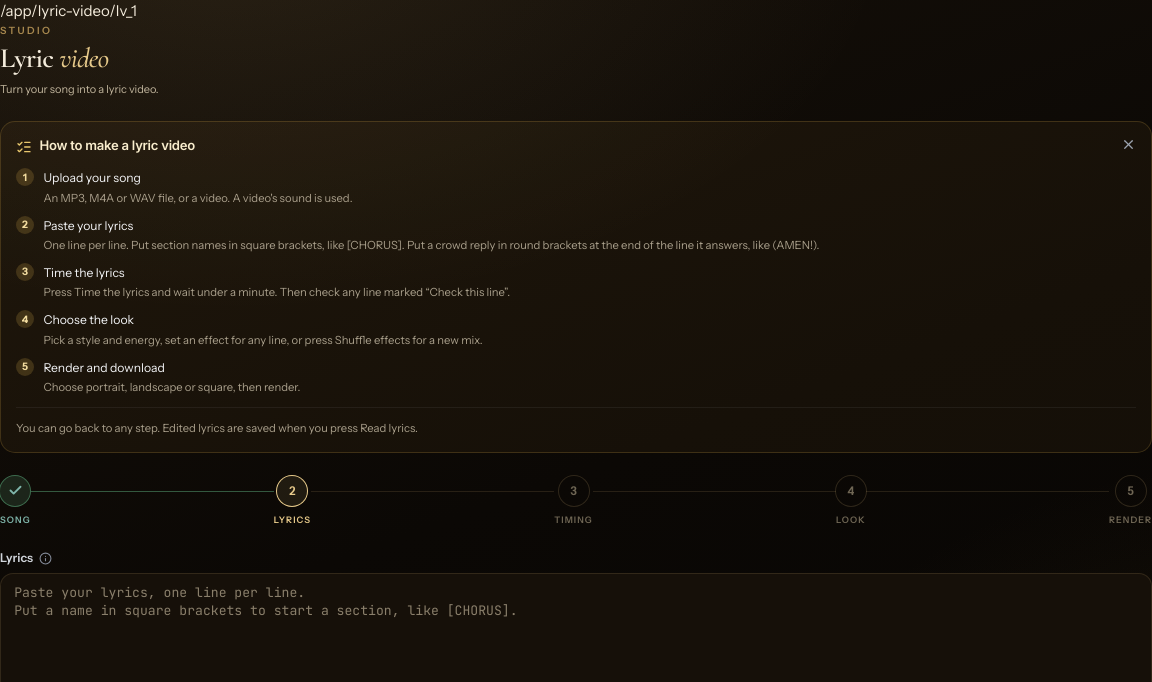
Test: LyricVideoPage › opens at the Lyrics step once the song is in
Click the button "Song": (15, 501) [0,476,31,527]
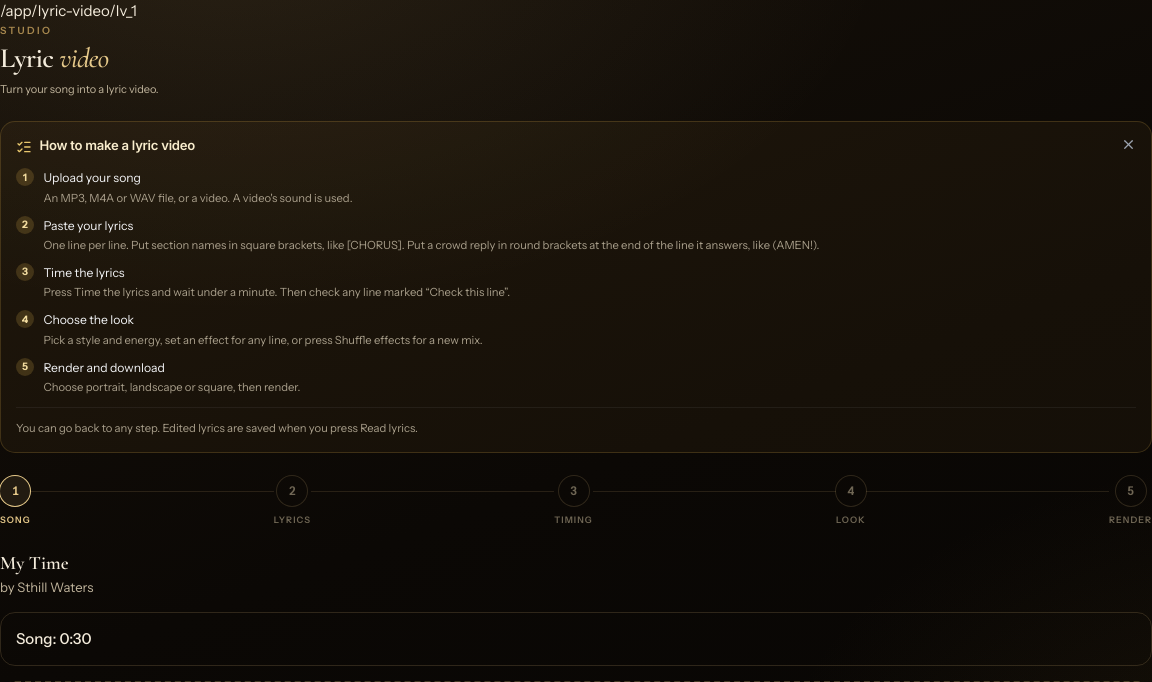
Result: the text "Song: 0:30" is shown at [16,628,92,650]
